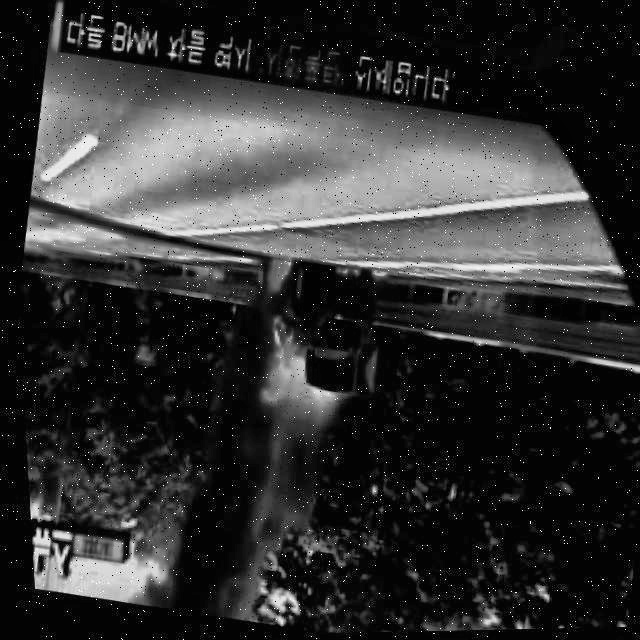Fire: (235, 252, 326, 426)
